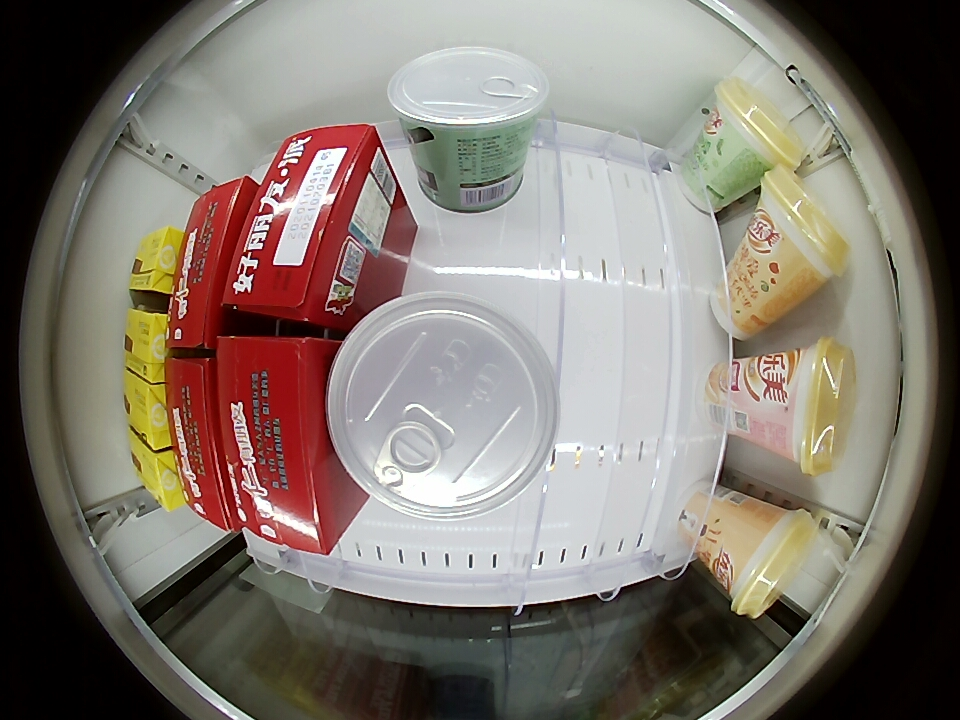haitai: (325, 291, 561, 527), (386, 47, 550, 152)
haoliyou: (222, 123, 388, 324), (213, 335, 346, 554), (167, 176, 251, 352), (164, 357, 236, 529)
weitaningmeng: (128, 428, 183, 511), (123, 368, 173, 449), (129, 226, 180, 298), (123, 308, 171, 381)
youlemei: (754, 166, 850, 294), (722, 503, 817, 620), (778, 337, 856, 477), (710, 77, 804, 175)
